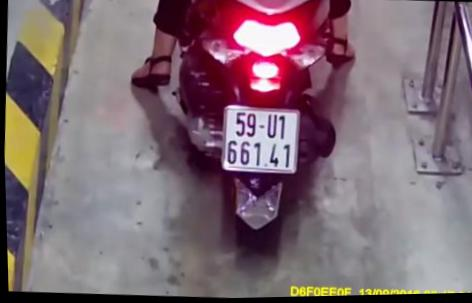LP: (218, 104, 302, 177)
